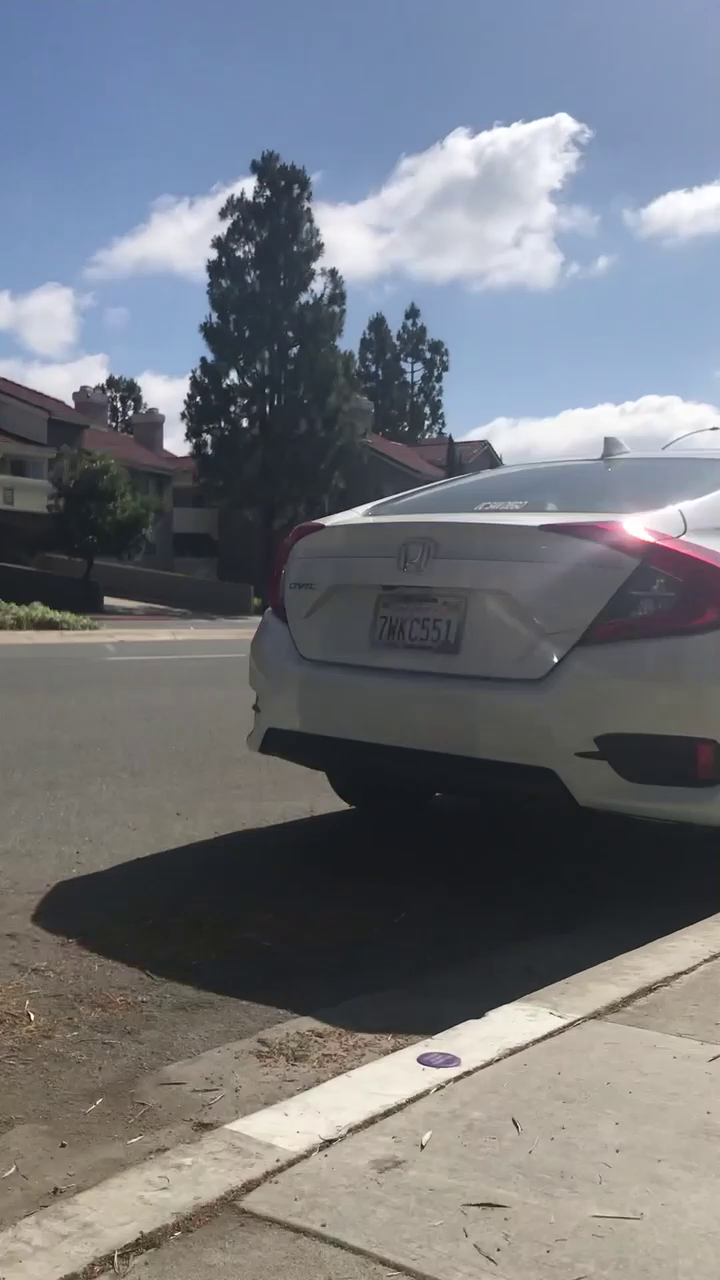car: (257, 474, 715, 879)
